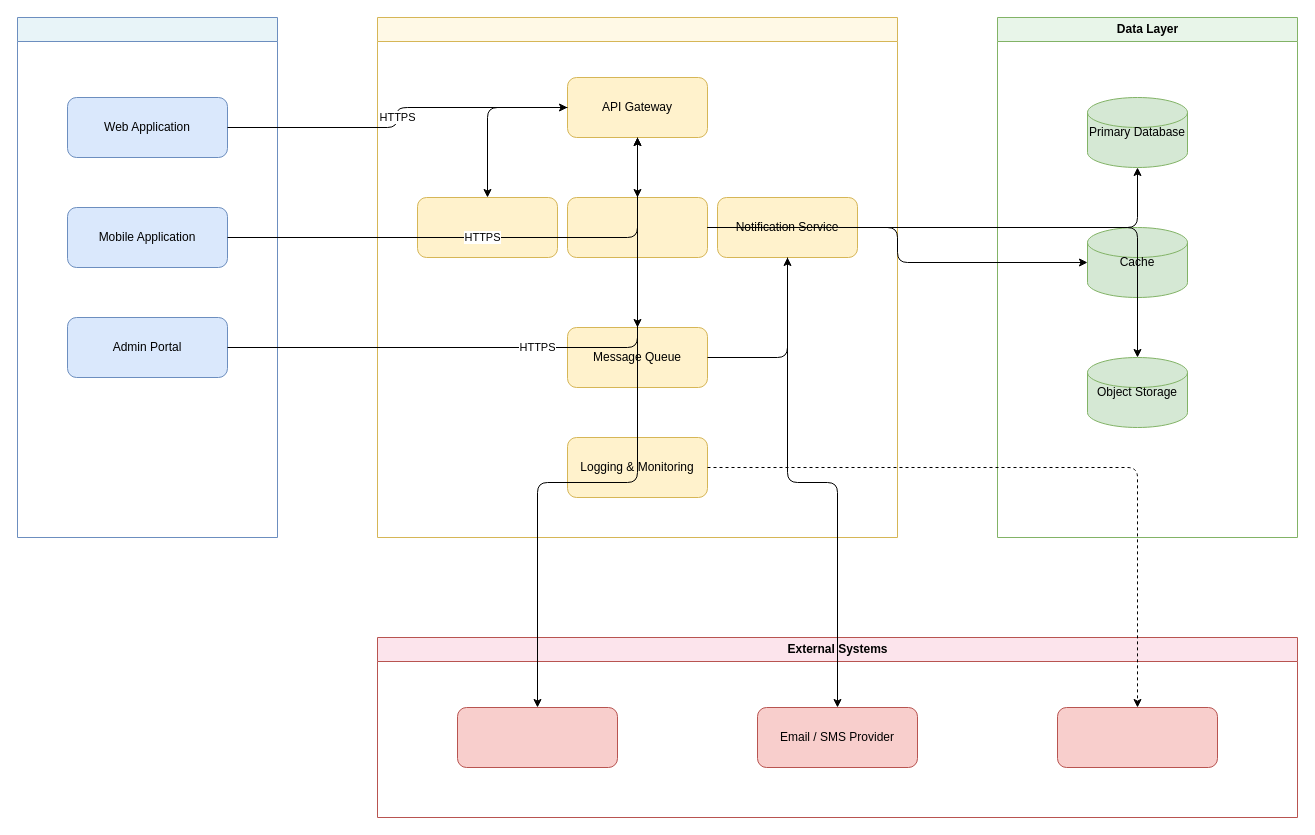
Image size: 1315x835. Some labels were removed from this diagram. The box of each missing label's shape, as (x1, y1, x2, y2) in pixels:
Analytics Platform: (1056, 706, 1218, 768)
Application Platform: (376, 16, 898, 538)
Clients: (16, 16, 278, 538)
Core Services: (566, 196, 708, 258)
Identity & Access: (416, 196, 558, 258)
Payment Provider: (456, 706, 618, 768)
